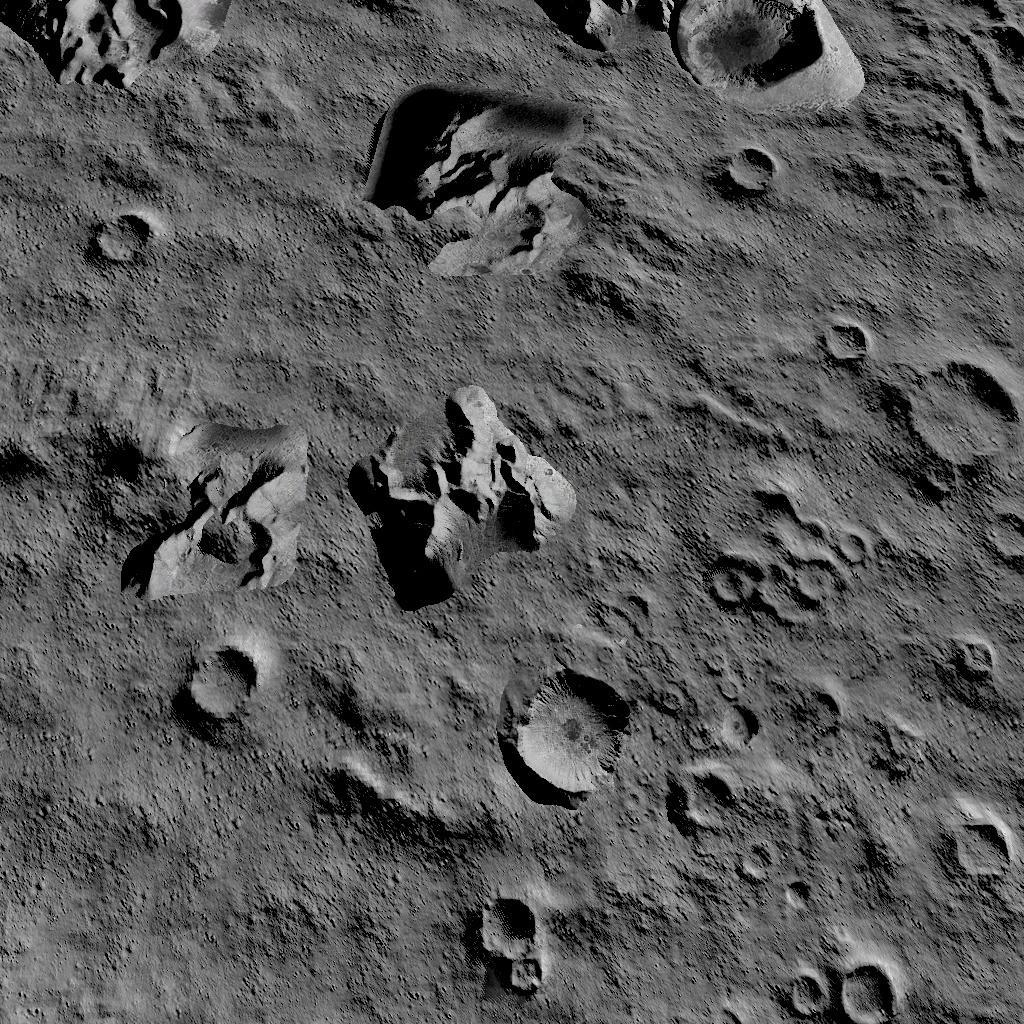Boulders: (3, 362, 310, 606), (348, 386, 580, 612), (369, 86, 598, 284), (302, 646, 480, 858), (5, 0, 238, 98), (540, 0, 672, 56)
Crater: (697, 462, 873, 630), (678, 0, 872, 114), (493, 654, 638, 806), (898, 350, 1024, 494), (656, 698, 764, 846), (458, 894, 554, 1006), (180, 636, 276, 746), (772, 954, 920, 1024), (941, 803, 1014, 890), (82, 204, 162, 282), (710, 144, 784, 202), (810, 310, 868, 374), (975, 510, 1024, 574), (804, 678, 852, 740), (944, 628, 1000, 680)
Plan surface: (0, 764, 284, 1024), (192, 116, 362, 350), (798, 198, 1024, 298), (298, 877, 442, 1024), (6, 622, 168, 748)
